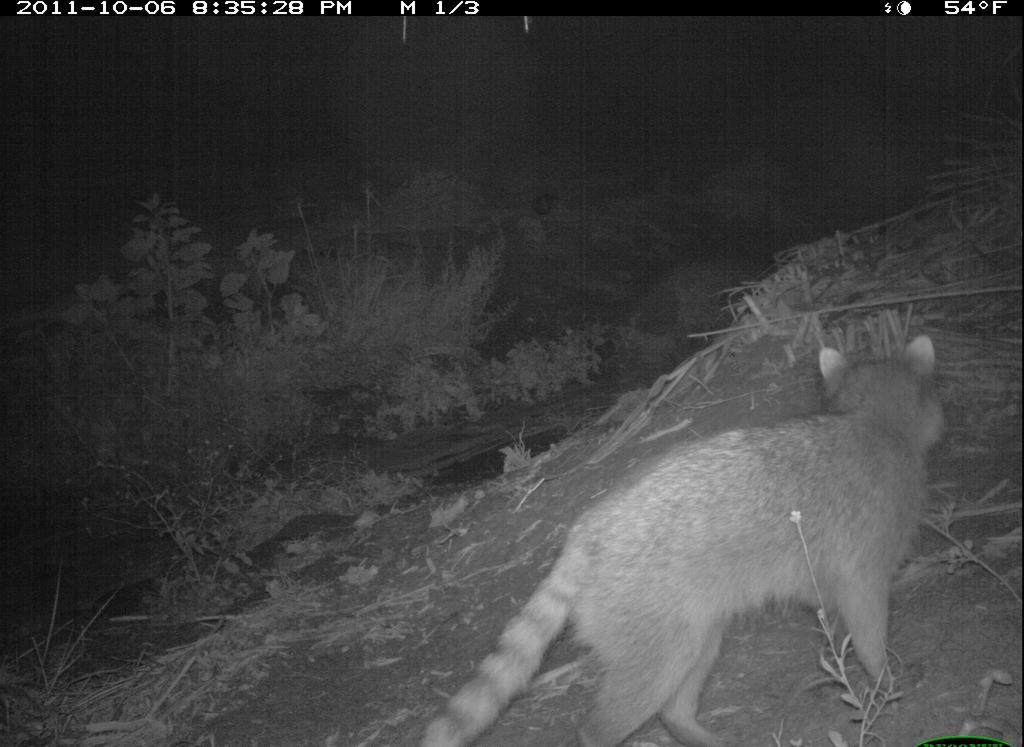raccoon: (406, 318, 963, 747)
